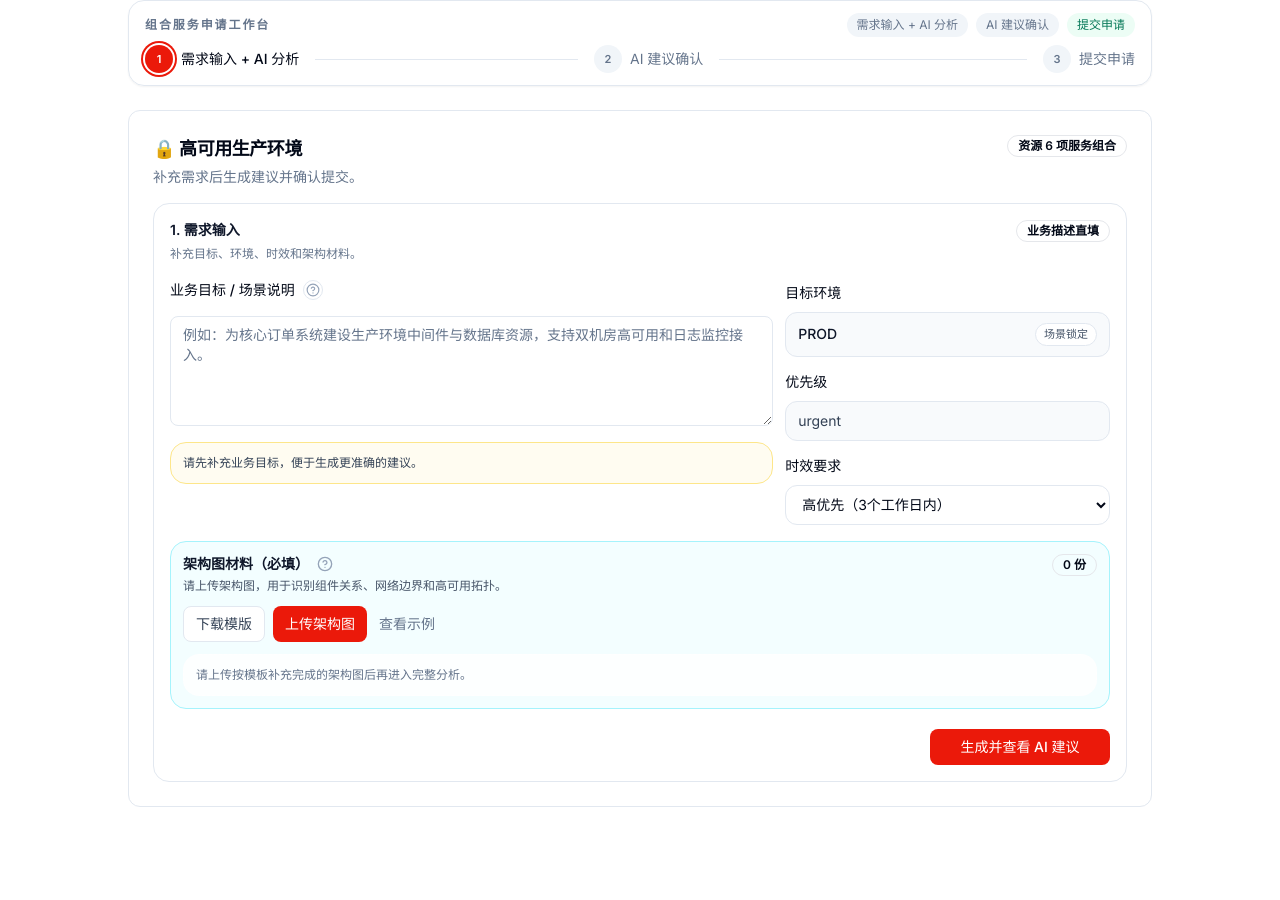
Test: ApplyWizard environment strategy › blocks combo apply from generating recommendation without architecture file
What coordinates should you click on to do the following:
click the button "生成并查看 AI 建议"
I would click on:
 (1020, 746)
Its box is [930, 728, 1110, 764].
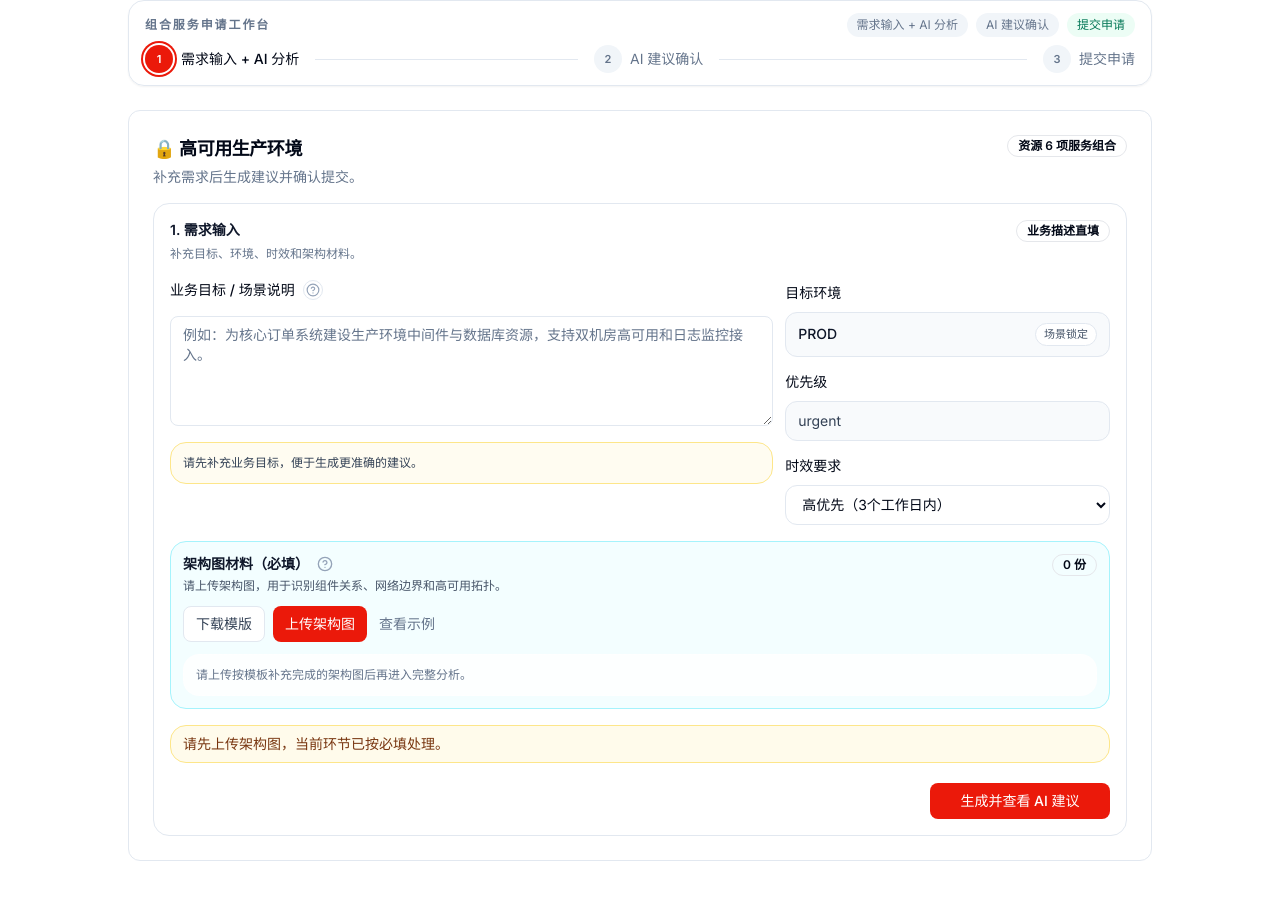
Expected: the text "请先上传架构图，当前环节已按必填处理。" is shown, [170, 724, 1110, 762]
